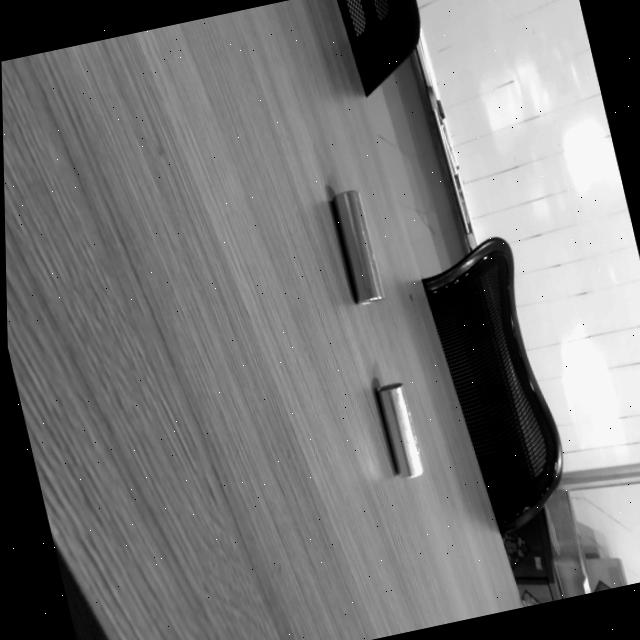Co_Lon: (328, 188, 384, 306)
Co_Nho: (373, 381, 424, 481)
